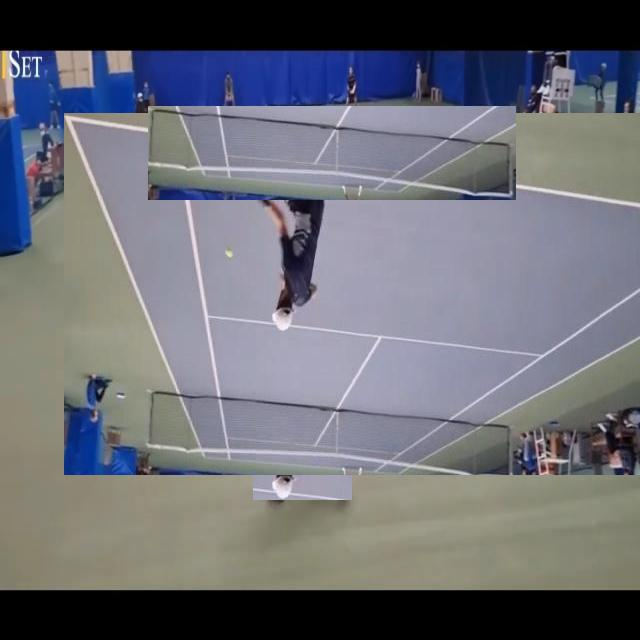court: (64, 113, 640, 475)
net: (148, 106, 516, 200)
player: (253, 256, 352, 502)
